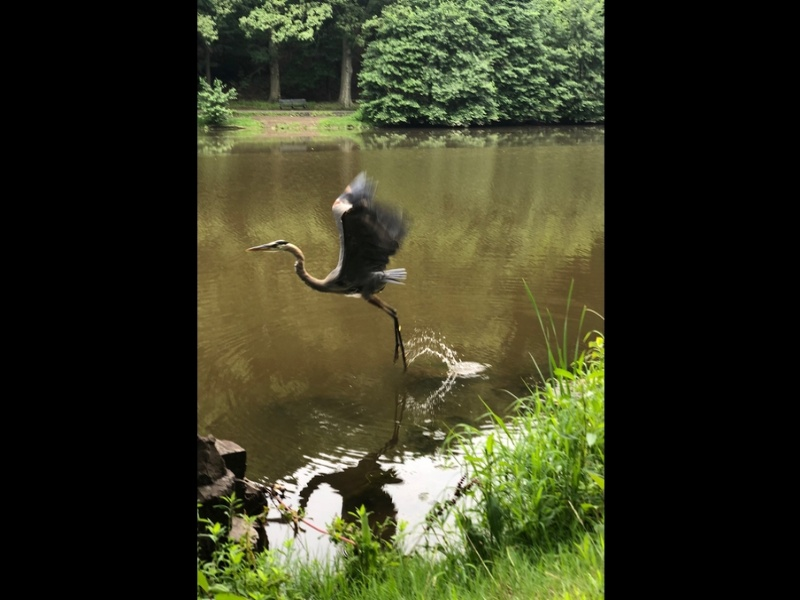heron: (247, 173, 412, 372)
